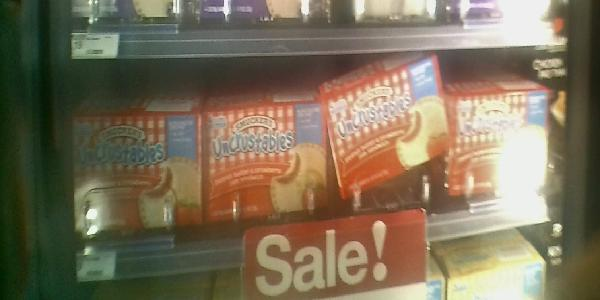icecream: (210, 109, 340, 224), (71, 116, 202, 228), (451, 94, 557, 198), (322, 87, 449, 171)
